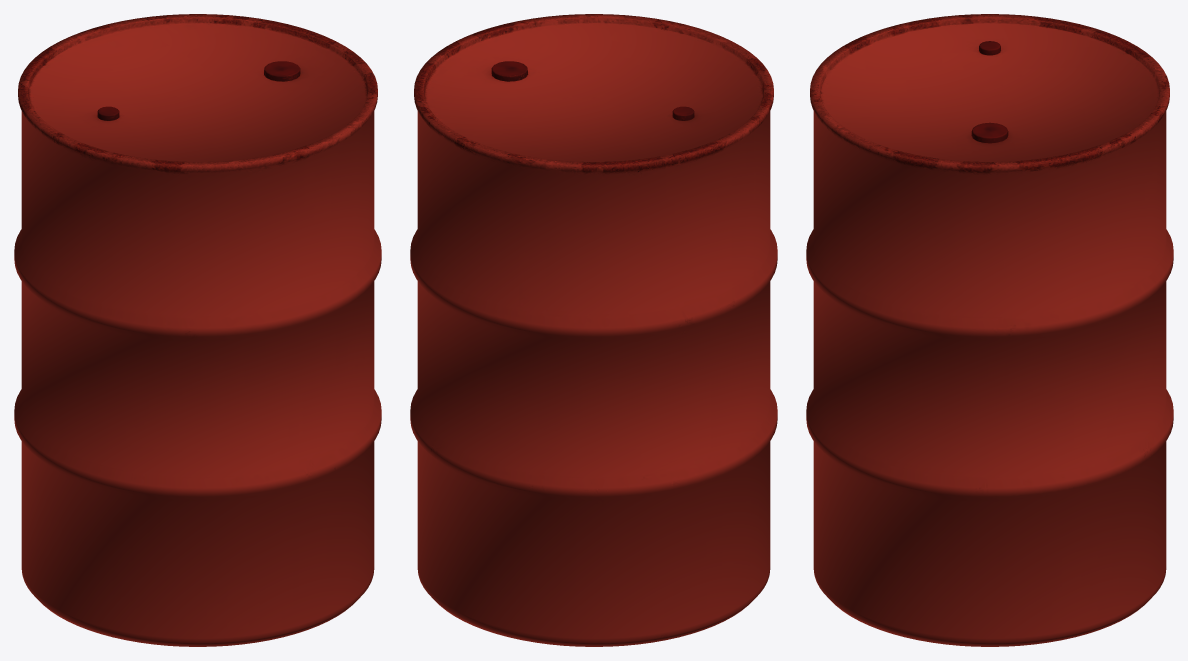
File: steel-red-rusty.glb
The picture shows the model from 3 angles, left to right: view 1: azimuth 30°, elevation 25°; view 2: azimuth 150°, elevation 25°; view 3: azimuth 270°, elevation 25°; orthographic projection.
Visible parts, largest first — view 1: paint_primary; view 2: paint_primary; view 3: paint_primary.
Boxes of the visible parts, x1=… form: paint_primary: x1=14, y1=14, x2=381, y2=646; paint_primary: x1=410, y1=14, x2=777, y2=646; paint_primary: x1=806, y1=14, x2=1173, y2=646.
Bounding box in the file's own units: 0.604 × 0.882 × 0.604.
Materials: 1 (1 with a texture image).
